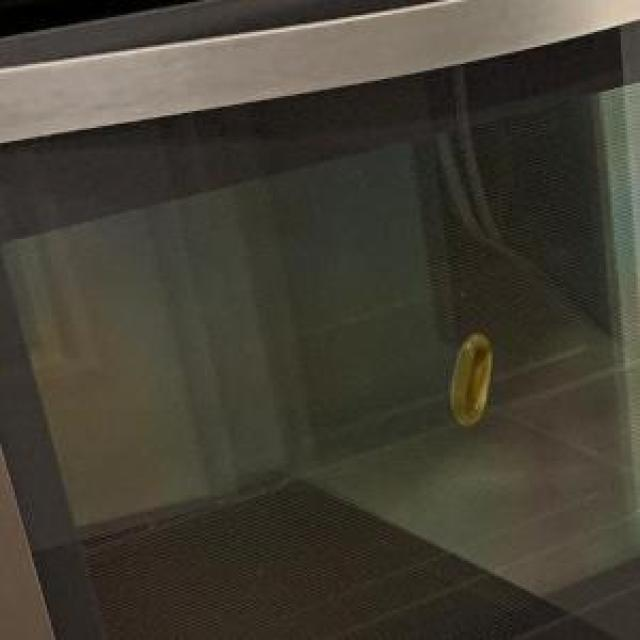Fish_Oil: (436, 322, 504, 439)
